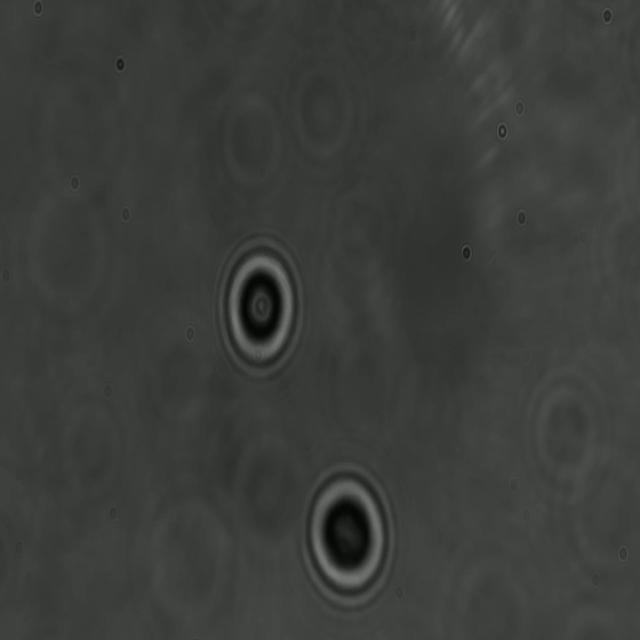LCELL: (212, 231, 308, 382)
